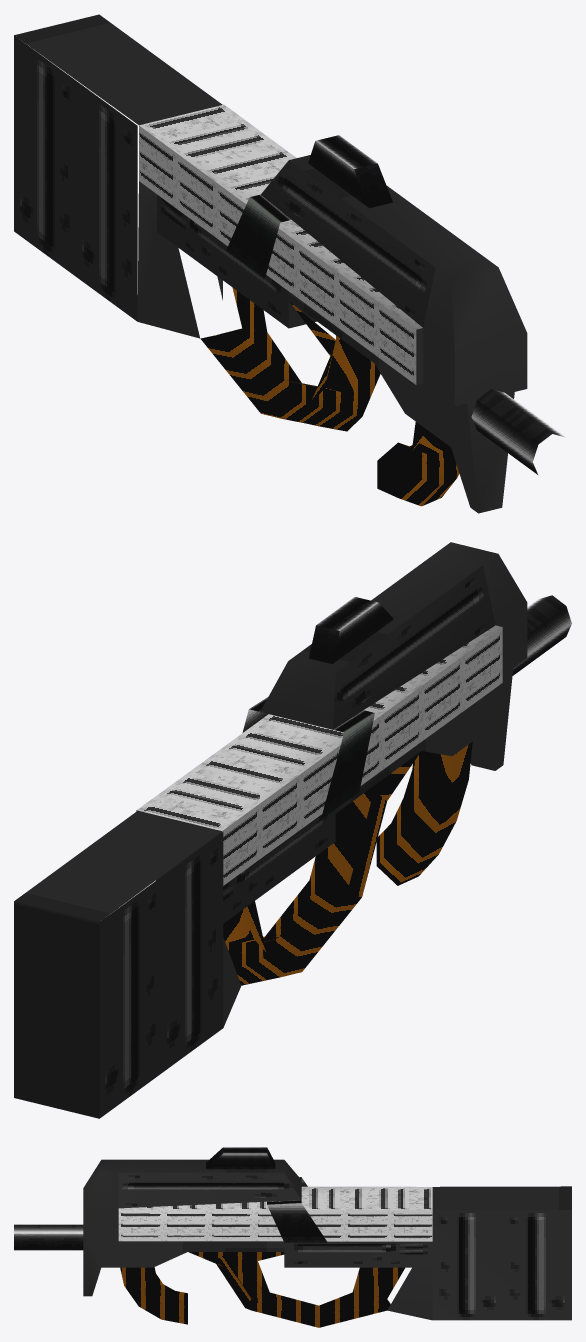
The model's file is gun.glb.
The picture shows the model from 3 angles, top to bottom: view 1: azimuth 30°, elevation 25°; view 2: azimuth 150°, elevation 25°; view 3: azimuth 270°, elevation 25°; orthographic projection. The views are drawn at different scales.
Visible parts, largest first — view 1: m6, m7, m10, m8, m9, m5CullBoth; view 2: m6, m7, m10, m8, m9, m5CullBoth; view 3: m6, m7, m10, m9, m8, m5CullBoth.
Boxes of the visible parts, x1,y1,x2,y2 form: m6: (14, 14, 527, 513); m7: (139, 104, 422, 384); m10: (200, 287, 459, 506); m8: (308, 135, 565, 474); m9: (157, 194, 288, 327); m5CullBoth: (226, 194, 290, 278); m6: (14, 542, 527, 1118); m7: (137, 625, 502, 885); m10: (223, 741, 472, 985); m8: (309, 595, 571, 675); m9: (223, 809, 335, 923); m5CullBoth: (242, 697, 374, 819); m6: (83, 1159, 571, 1320); m7: (118, 1186, 432, 1241); m10: (120, 1252, 404, 1327); m9: (284, 1241, 432, 1267); m8: (14, 1147, 275, 1250); m5CullBoth: (267, 1177, 327, 1242).
Size of the model in its own units: 68 by 215 by 613.
Materials: 6 (6 with a texture image).
